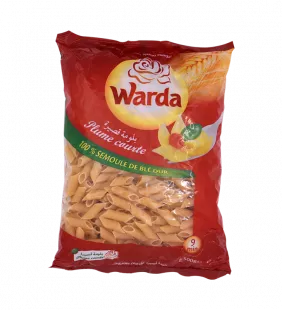LA ROSE BLANCHE: (38, 21, 244, 284)
